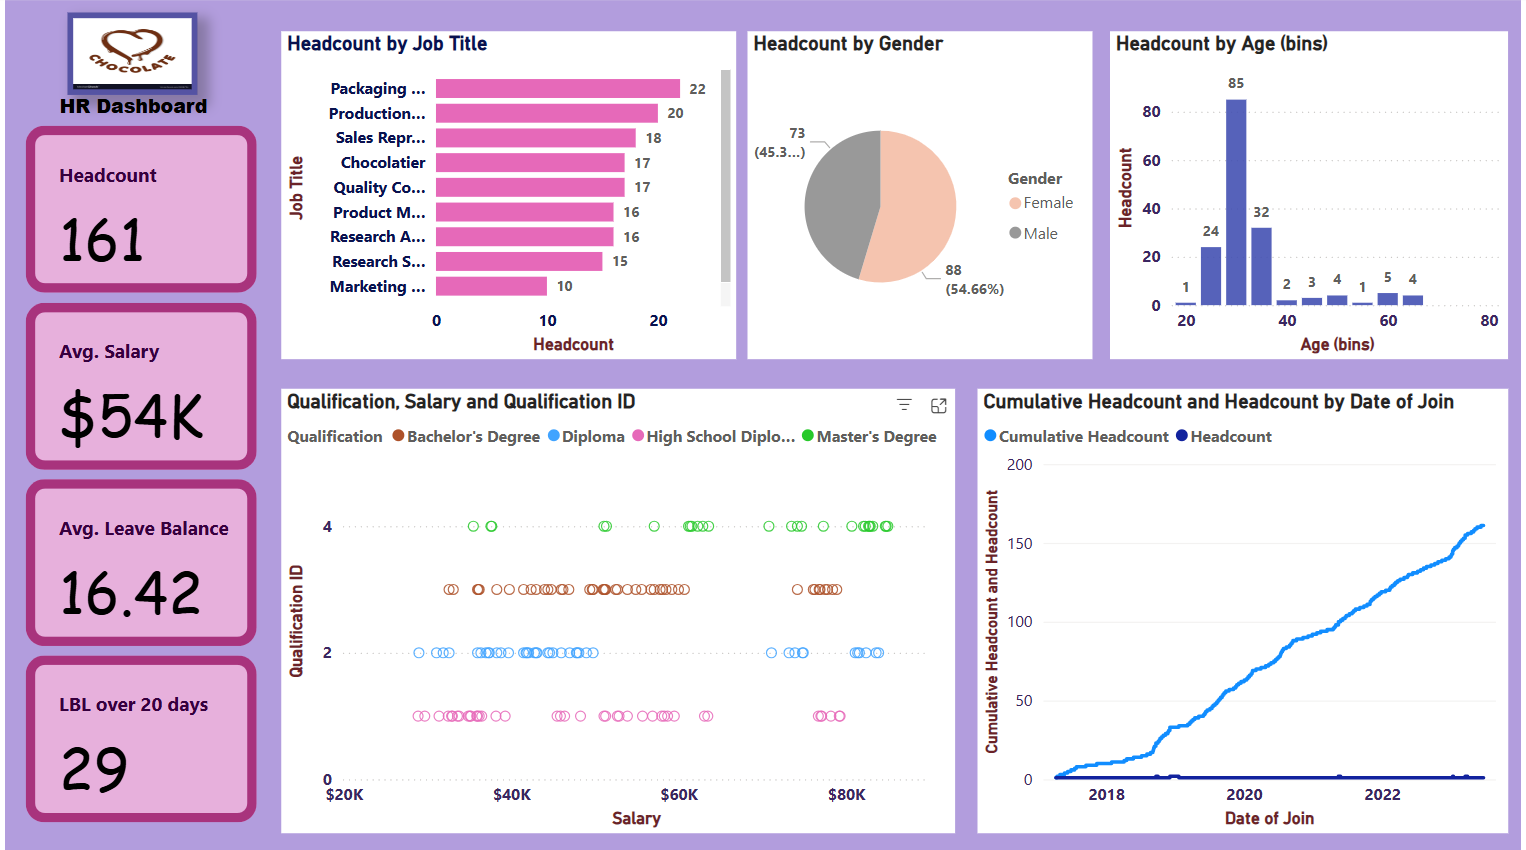

This screenshot's page, from the dashboard's own definition file:
{"tool":"powerbi","page":{"name":"Page 10","canvas":[1280,720],"ordinal":9},"visuals":[{"type":"cardVisual","fields":{"Data":["Staff.Headcount","Staff.Avg. Salary","Staff.Avg. Leave Balance","Staff.LBL over 20 days"]},"box":[12.2,81,205.3,638.8],"z":0},{"type":"clusteredBarChart","fields":{"Category":["Staff.Job Title"],"Y":["Staff.Headcount"]},"box":[233.3,26.1,384.2,277.2],"z":1000},{"type":"pieChart","fields":{"Category":["Staff.Gender"],"Y":["Staff.Headcount"]},"box":[627.1,26.1,290.9,277.2],"z":2000},{"type":"columnChart","fields":{"Y":["Staff.Headcount"],"Category":["Staff.Age (bins)"]},"box":[933.1,26.1,336.2,277.2],"z":3000},{"type":"scatterChart","fields":{"X":["Staff.Salary"],"Y":["Education Qualification.Qualification ID"],"Series":["Education Qualification.Qualification"]},"box":[233.6,328.2,568.6,375.4],"z":4000},{"type":"lineChart","fields":{"Y":["Staff.Cumulative Headcount","Staff.Headcount"],"Category":["Staff.Date of Join"]},"box":[821.1,328.2,448.4,375.4],"z":5000},{"type":"image","box":[53.1,10.9,109.8,70],"z":6000},{"type":"textbox","box":[18.1,72.4,181,33.8],"z":7000}]}

Visuals, with their boxes in screenshot pixels (x1, y1, x2, y2), scaled from the page's 1280x720 canvas onto the 1526x850 screenshot:
cardVisual - Staff.Headcount x Staff.Avg. Salary: locate(15, 96, 259, 849)
clusteredBarChart - Staff.Job Title x Staff.Headcount: locate(278, 31, 736, 358)
pieChart - Staff.Gender x Staff.Headcount: locate(748, 31, 1094, 358)
columnChart - Staff.Headcount x Staff.Age (bins): locate(1112, 31, 1513, 358)
scatterChart - Staff.Salary x Education Qualification.Qualification ID: locate(278, 387, 956, 831)
lineChart - Staff.Cumulative Headcount x Staff.Headcount: locate(979, 387, 1513, 831)
image: locate(63, 13, 194, 96)
textbox: locate(22, 85, 237, 125)
